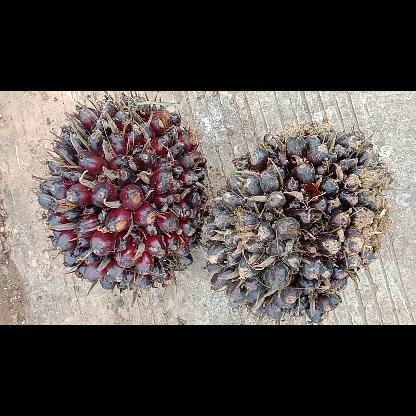TBS mentah: (198, 118, 394, 324), (35, 90, 210, 292)
